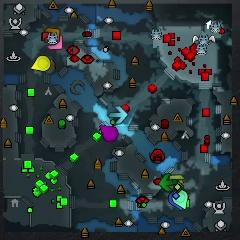p1: (169, 191, 183, 211)
p2: (173, 190, 188, 209)
p3: (99, 125, 119, 142)
p4: (32, 56, 51, 72)
x1: (48, 35, 62, 50)
x2: (168, 174, 184, 190)
x3: (109, 105, 128, 124)
x4: (159, 173, 177, 191)
x5: (44, 27, 60, 43)
